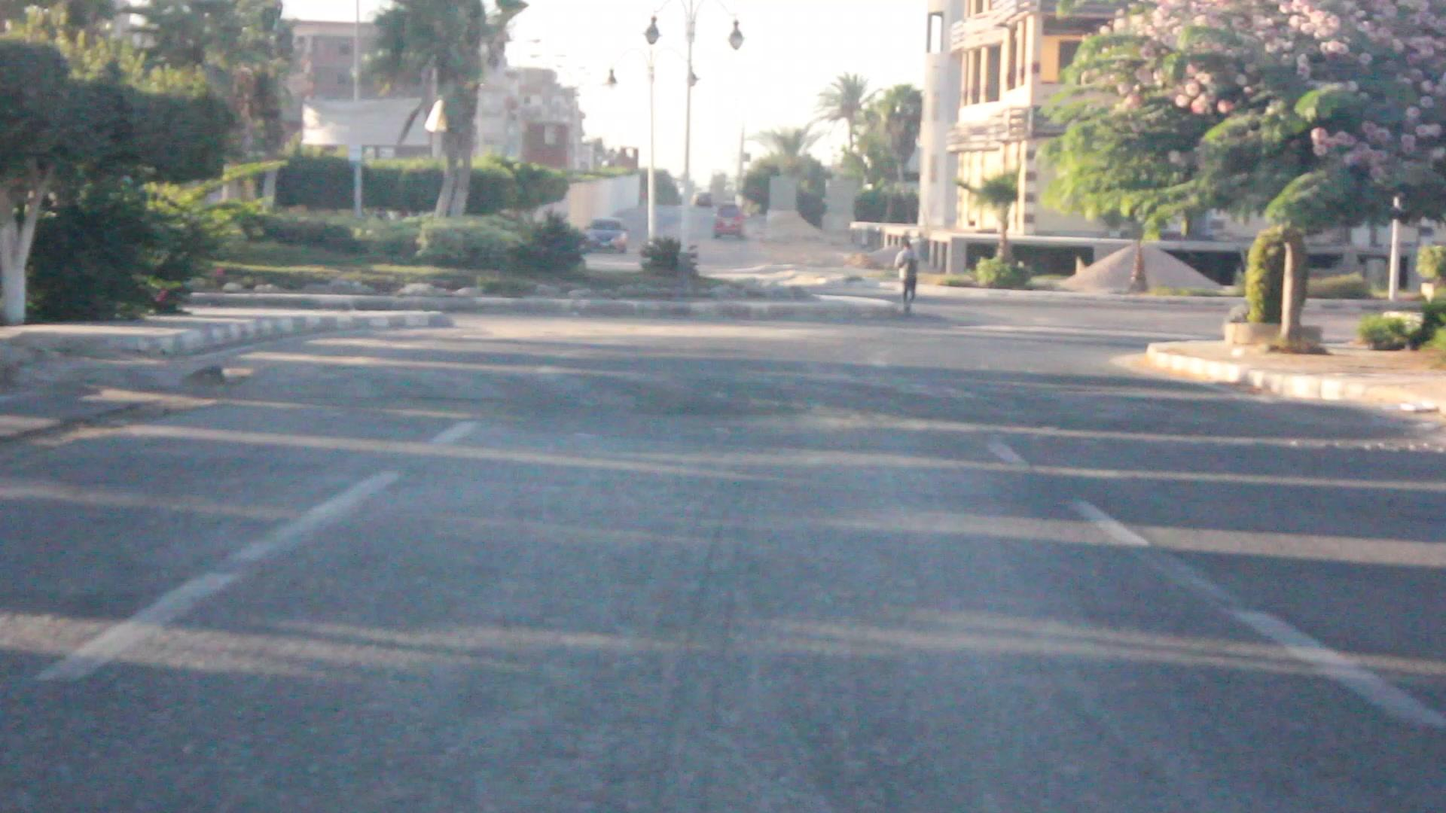Bump: (239, 358, 1341, 429)
